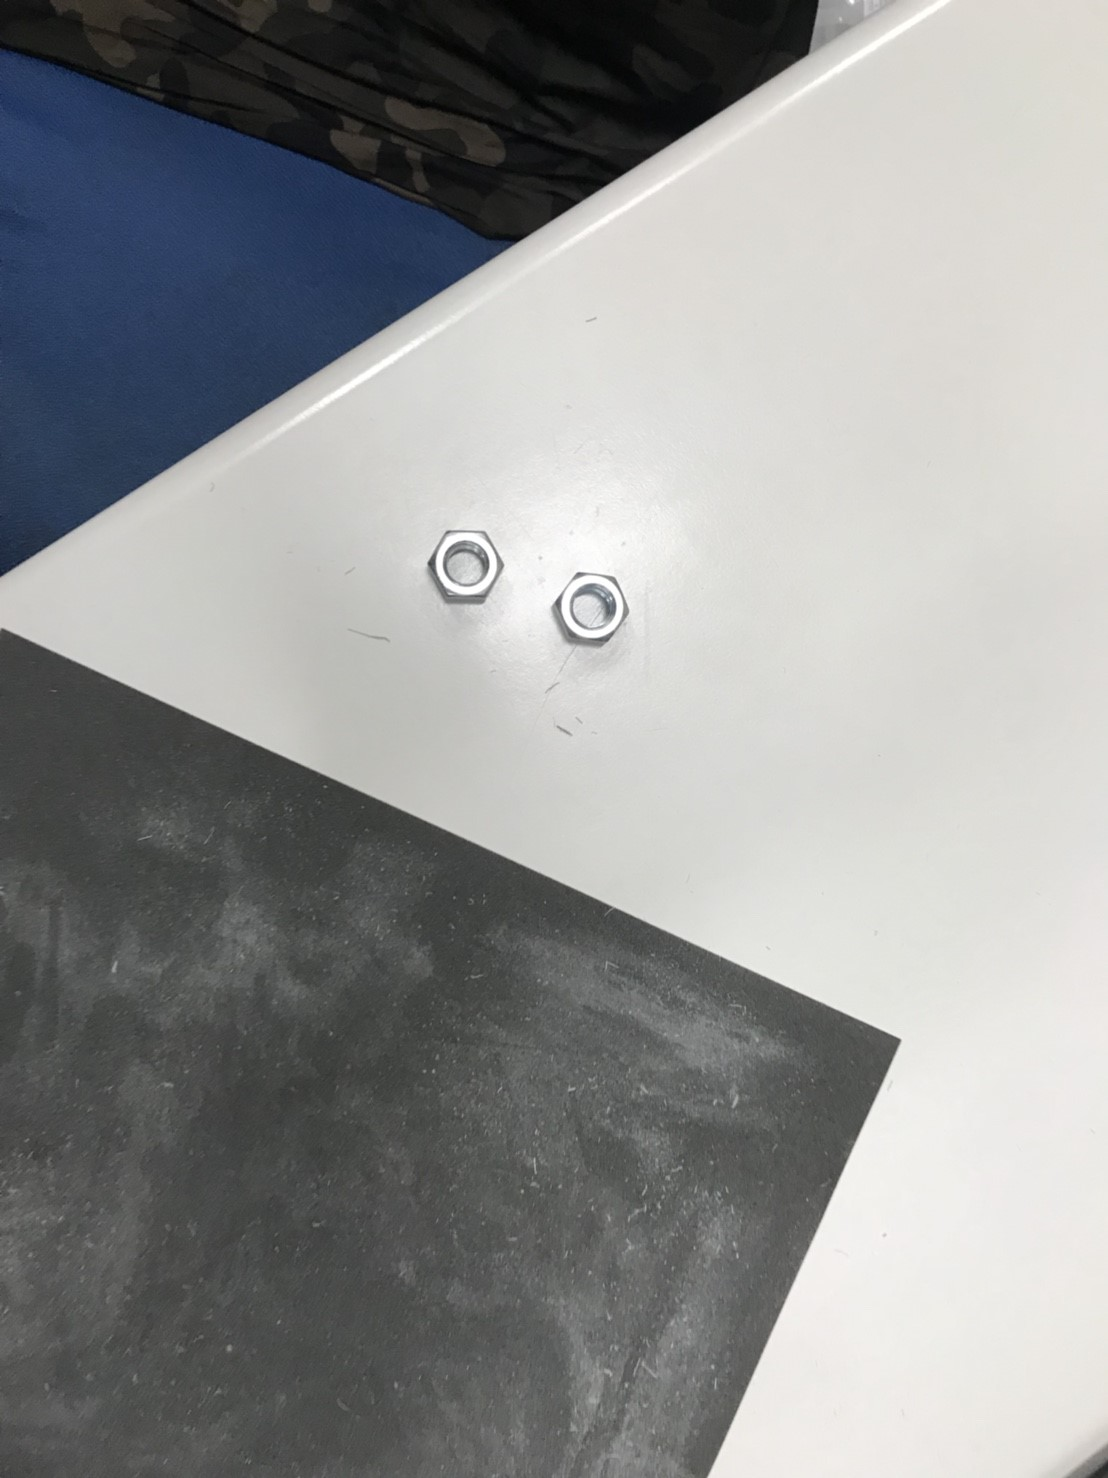nut: (556, 573, 634, 647), (432, 532, 507, 604)
